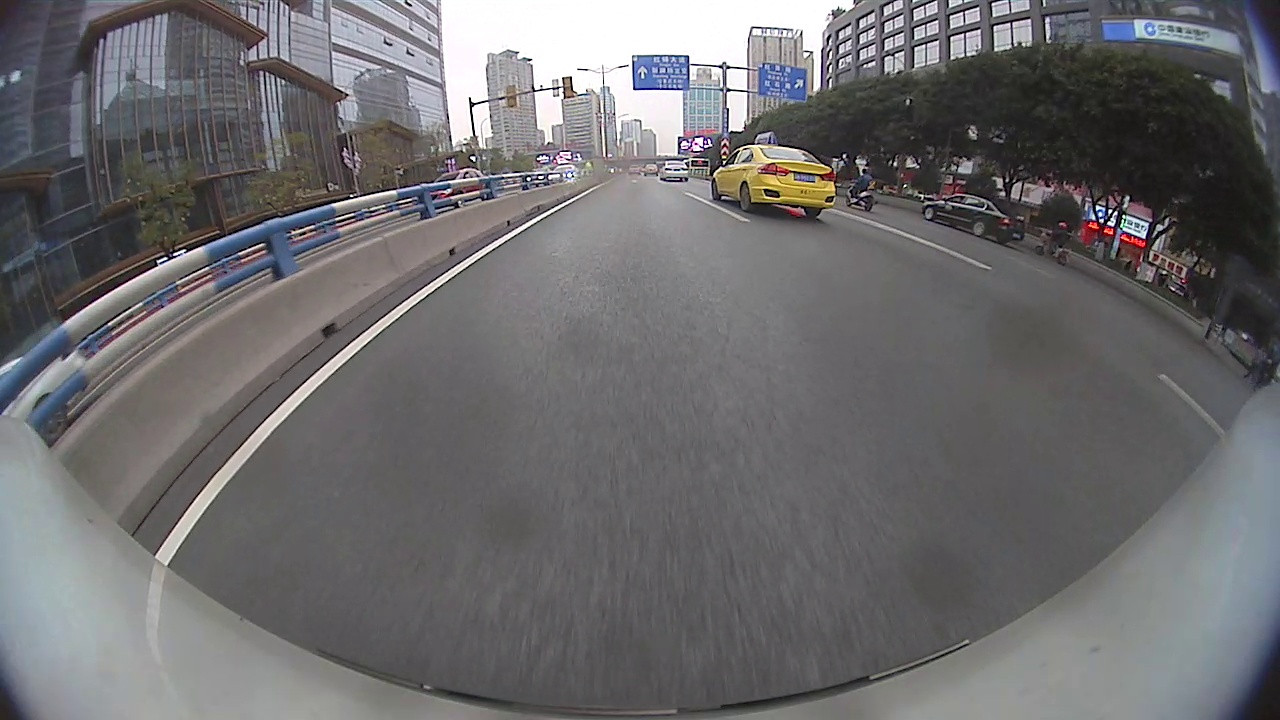car: (708, 129, 839, 220), (919, 192, 1027, 246), (413, 166, 493, 215), (657, 159, 691, 183)
front: (711, 176, 722, 201), (924, 206, 938, 223)
rear: (31, 392, 71, 444), (740, 183, 752, 215), (974, 221, 984, 240)
rider: (1033, 220, 1074, 268), (844, 167, 880, 213)
